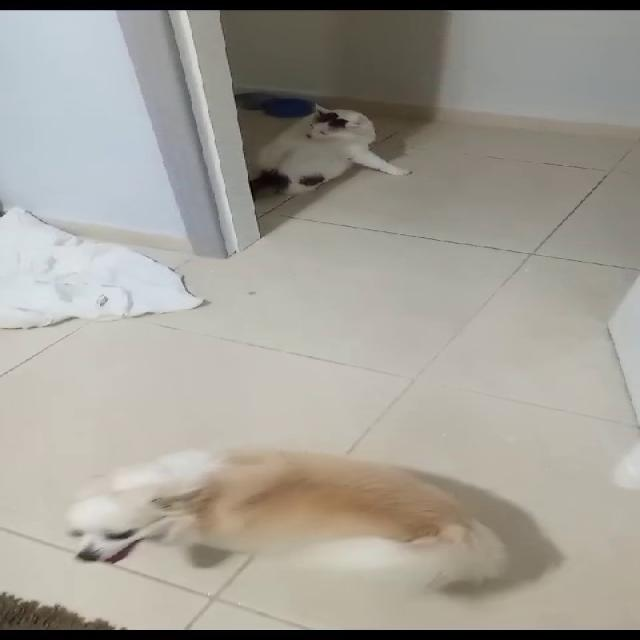Simba: (255, 83, 415, 216)
Theo: (41, 428, 550, 639)
